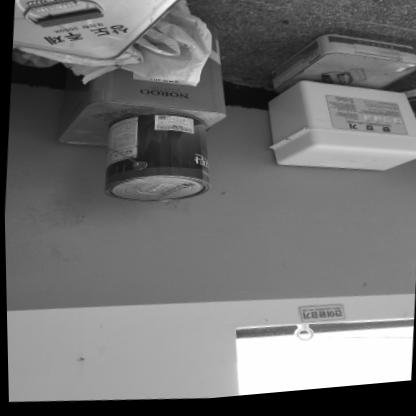DDL: (262, 74, 416, 186)
